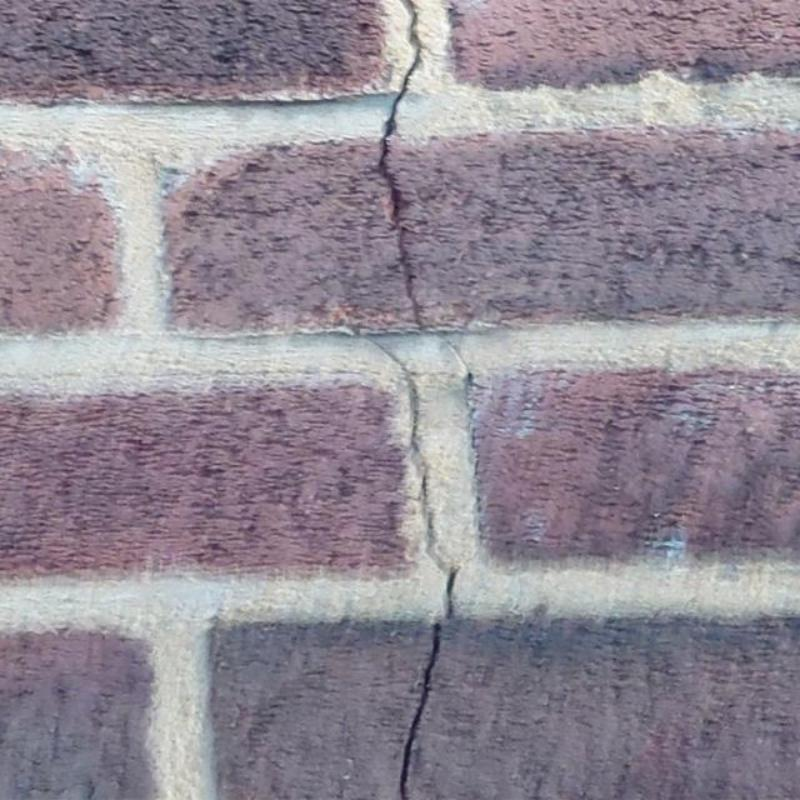pothole: (351, 334, 461, 619), (378, 0, 422, 323), (398, 622, 441, 799), (431, 331, 472, 385)
